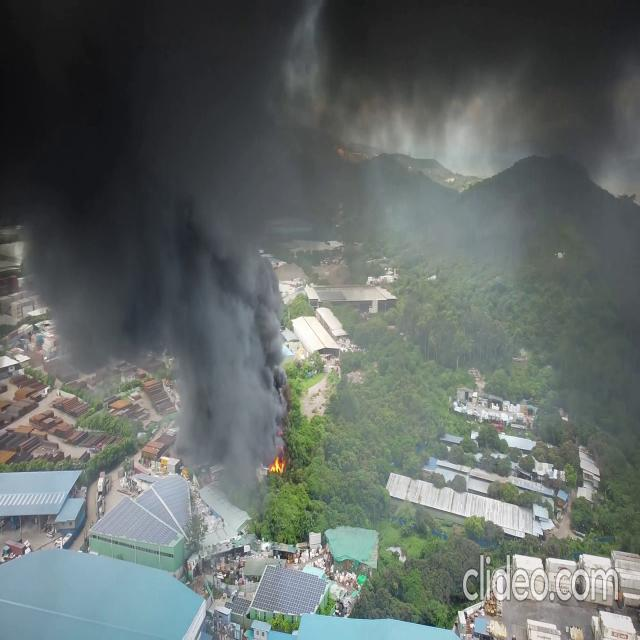Fire: (268, 453, 284, 476)
Smoke: (0, 0, 352, 451), (331, 12, 640, 316)
